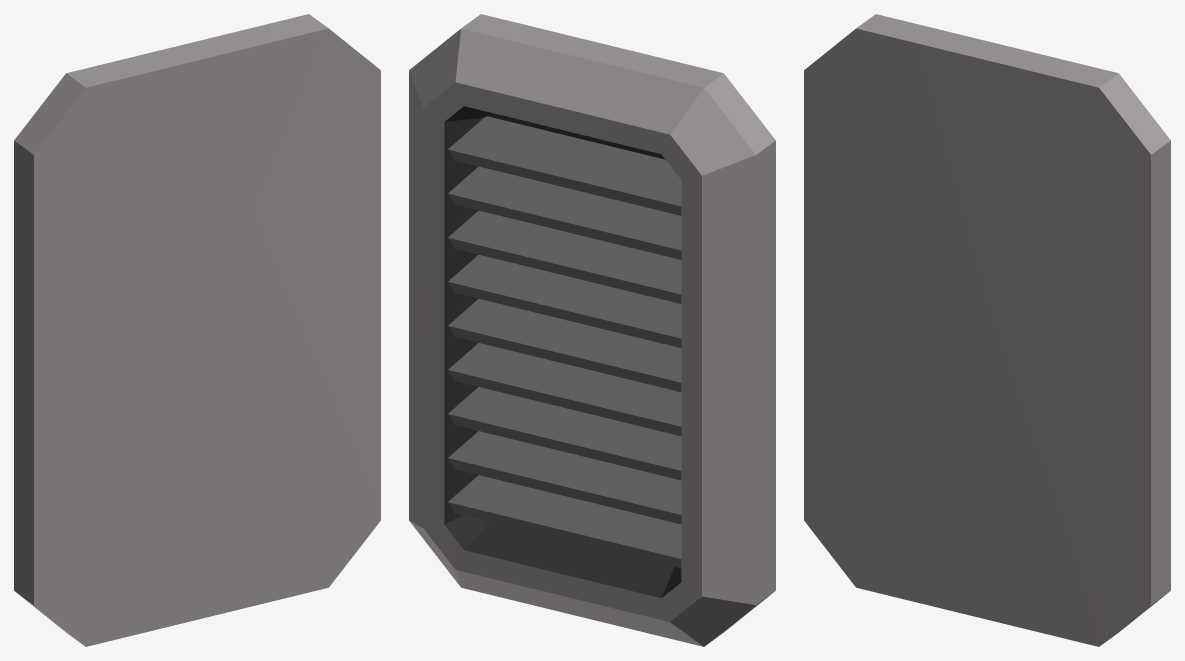
Rendered from entity757564.glb.
3 views of the same model, side by side, from view 1: azimuth 30°, elevation 25°; view 2: azimuth 150°, elevation 25°; view 3: azimuth 330°, elevation 25° (orthographic).
Visible parts, largest first — view 1: node_SM_Bld_Greeble_01 (3); view 2: node_SM_Bld_Greeble_01 (3); view 3: node_SM_Bld_Greeble_01 (3).
Part boxes in pixels (x1,y1,x2,y2): node_SM_Bld_Greeble_01 (3): [14, 14, 380, 646]; node_SM_Bld_Greeble_01 (3): [409, 14, 775, 646]; node_SM_Bld_Greeble_01 (3): [804, 14, 1170, 646].
Bounding box in the file's own units: 0.8373 × 1.29 × 0.1653.
Materials: 1 (1 with a texture image).
